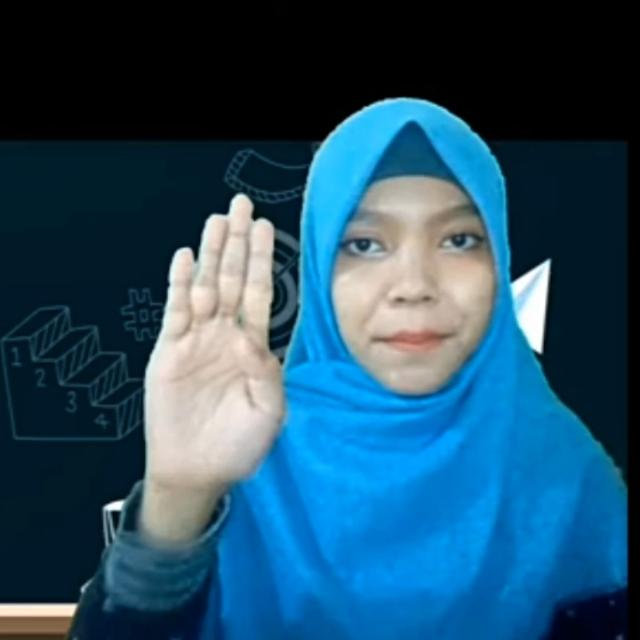B: (142, 194, 286, 490)
